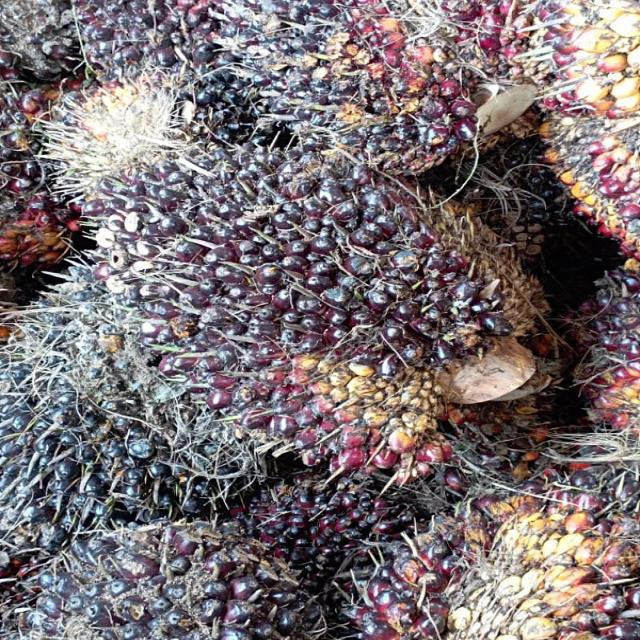fraksi 00: (97, 149, 538, 466), (0, 272, 273, 531), (209, 0, 556, 184), (0, 525, 315, 639)
